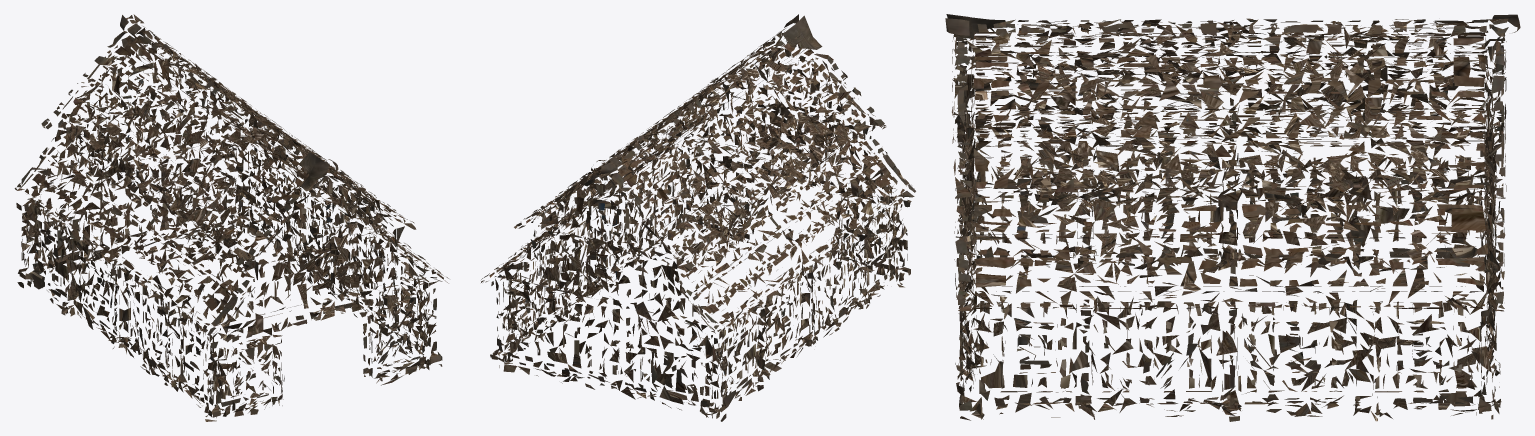
File: offener_unterstand.glb
3 renders of one model, left to right at view 1: azimuth 30°, elevation 25°; view 2: azimuth 150°, elevation 25°; view 3: azimuth 270°, elevation 25°, orthographic. The views are drawn at different scales.
Bounding box in the file's own units: 1.36 × 1.25 × 1.97.
Materials: 1 (1 with a texture image).
